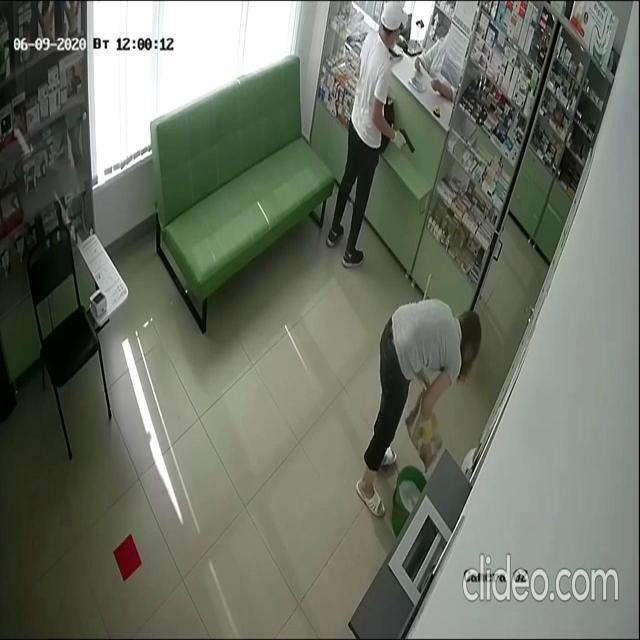pistol: (399, 126, 415, 154)
